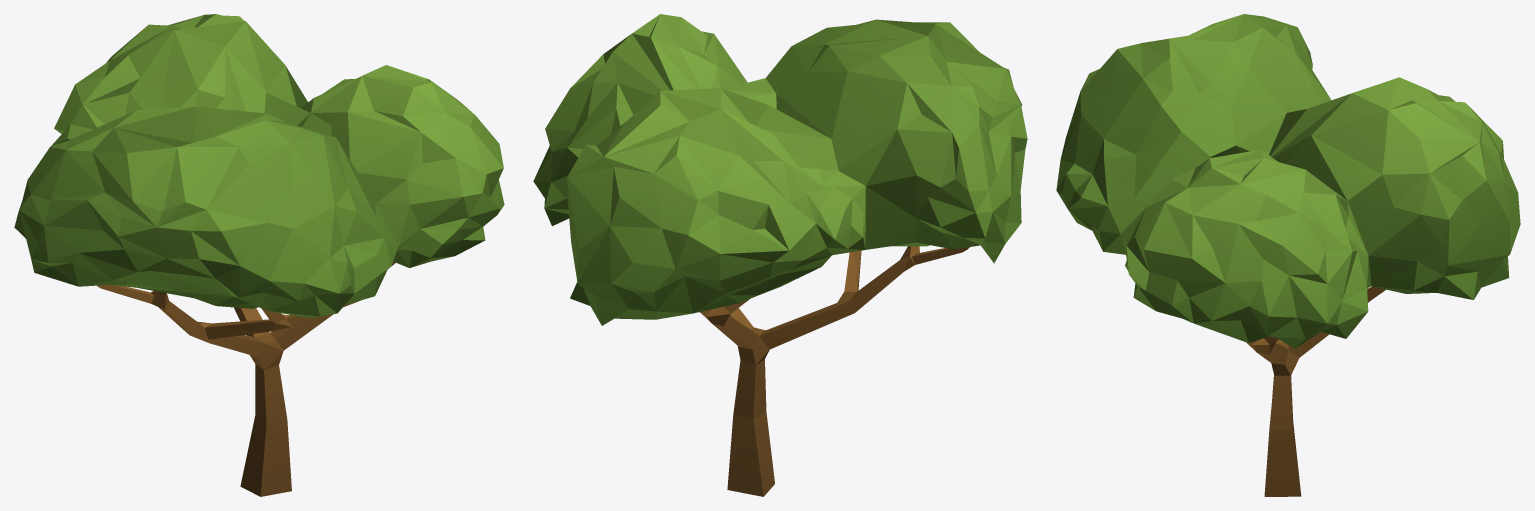
File: tree4.fbx
3 views of the same model, side by side, from view 1: azimuth 30°, elevation 25°; view 2: azimuth 150°, elevation 25°; view 3: azimuth 270°, elevation 25° (orthographic). The views are drawn at different scales.
Parts seen in each view (by area): view 1: Tree_high_regular; view 2: Tree_high_regular; view 3: Tree_high_regular.
Part boxes in pixels (box(x1,y1,x2,y2)): Tree_high_regular: box(14, 14, 504, 496); Tree_high_regular: box(533, 14, 1027, 496); Tree_high_regular: box(1056, 14, 1520, 496).
Size of the model in its own units: 93.65 by 86.03 by 89.65.
Materials: 1 (1 with a texture image).
